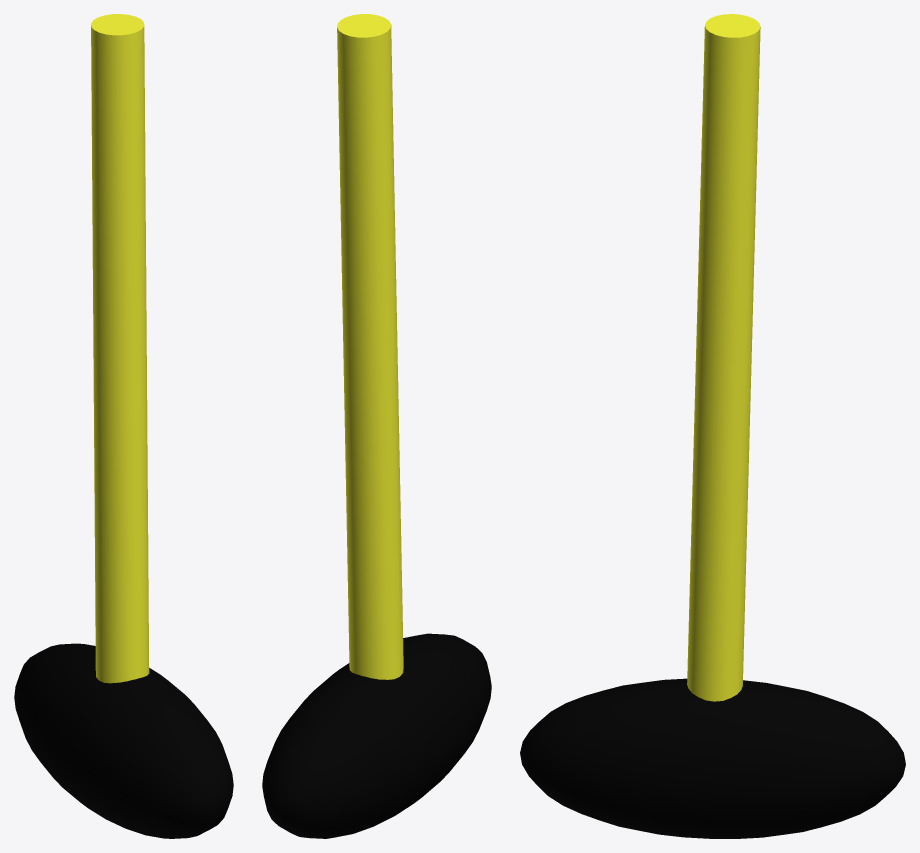
The model's file is foot.obj.
The picture shows the model from 3 angles, left to right: view 1: azimuth 30°, elevation 25°; view 2: azimuth 150°, elevation 25°; view 3: azimuth 270°, elevation 25°; orthographic projection. The views are drawn at different scales.
Parts seen in each view (by area): view 1: pasted__polySurface1 group1; view 2: pasted__polySurface1 group1; view 3: pasted__polySurface1 group1.
Boxes of the visible parts, x1,y1,x2,y2 form: pasted__polySurface1 group1: (14, 14, 233, 838); pasted__polySurface1 group1: (262, 14, 491, 838); pasted__polySurface1 group1: (520, 14, 905, 838).
Bounding box in the file's own units: 0.2385 × 1.44 × 0.6226.
